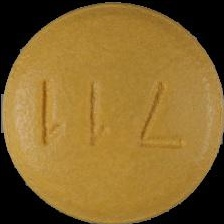62756-711: (0, 0, 224, 224)
